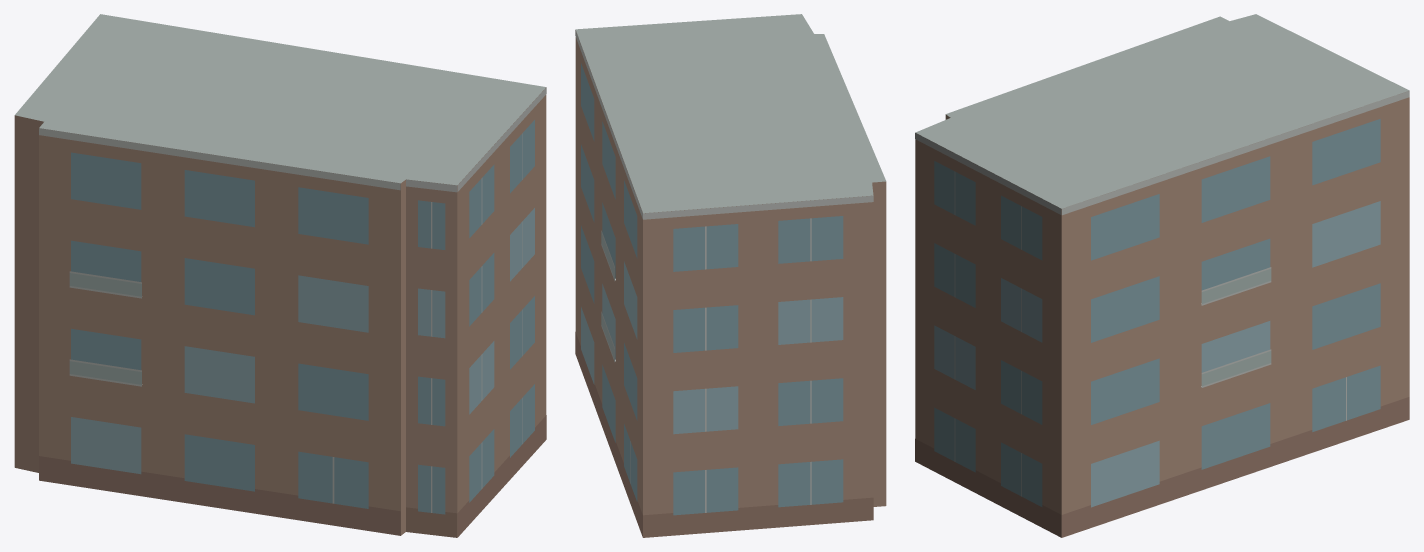
Rendered from survey-upis-32844890.glb.
3 views of the same model, side by side, from view 1: azimuth 30°, elevation 25°; view 2: azimuth 150°, elevation 25°; view 3: azimuth 270°, elevation 25° (orthographic). The views are drawn at different scales.
Parts seen in each view (by area): view 1: survey-upis-32844890.tmp; view 2: survey-upis-32844890.tmp; view 3: survey-upis-32844890.tmp.
Part boxes in pixels (x1=…): survey-upis-32844890.tmp: x1=14, y1=14, x2=546, y2=537; survey-upis-32844890.tmp: x1=575, y1=14, x2=886, y2=537; survey-upis-32844890.tmp: x1=915, y1=14, x2=1409, y2=537.
Size of the model in its own units: 15.5 by 12.2 by 16.62.
